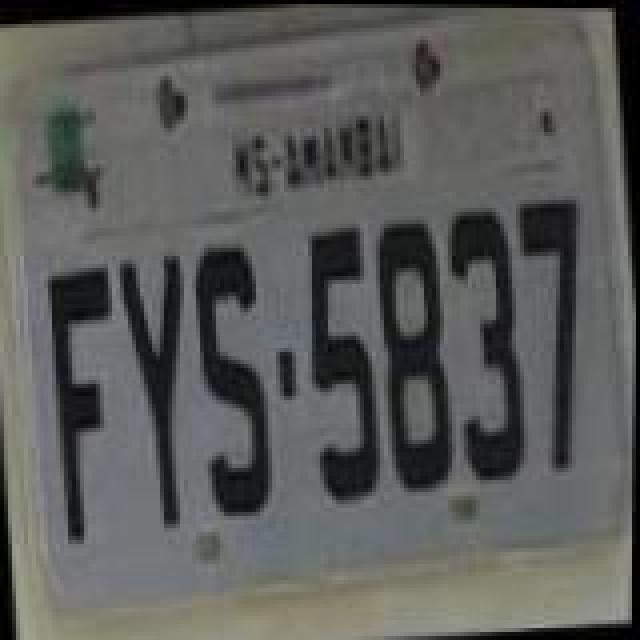3: (446, 204, 538, 488)
5: (298, 220, 390, 508)
7: (510, 190, 602, 470)
8: (368, 212, 464, 496)
F: (48, 264, 140, 548)
S: (190, 238, 282, 522)
Y: (116, 250, 208, 526)
